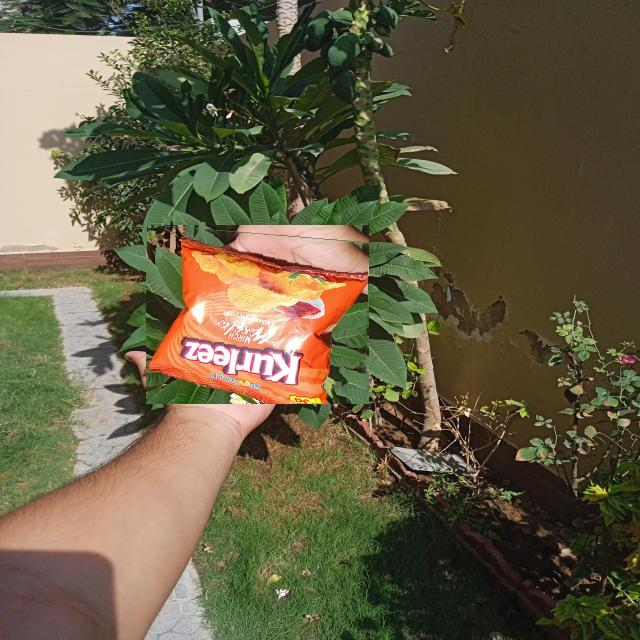Plastic: (146, 224, 369, 404)
